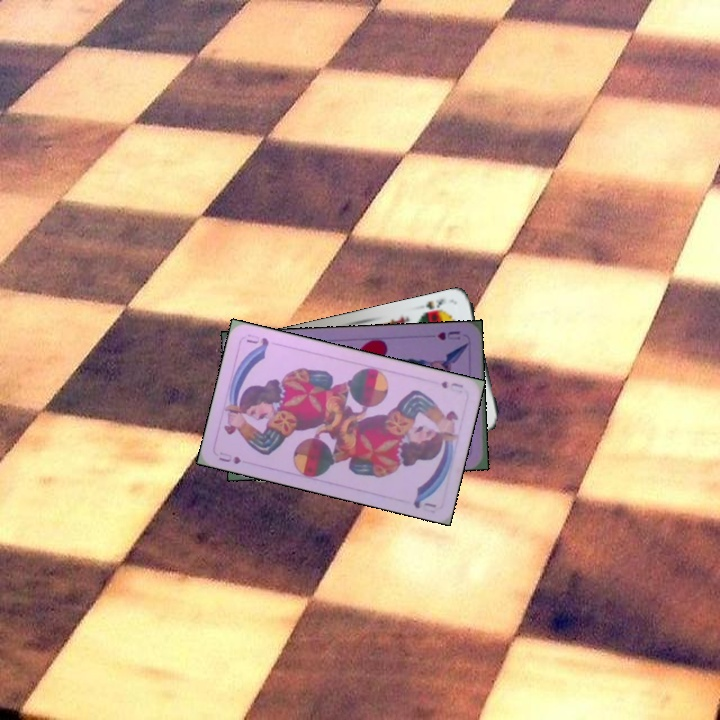HU: (433, 327, 463, 343)
SK: (418, 295, 449, 318)
SU: (215, 447, 243, 467), (437, 377, 466, 391)
